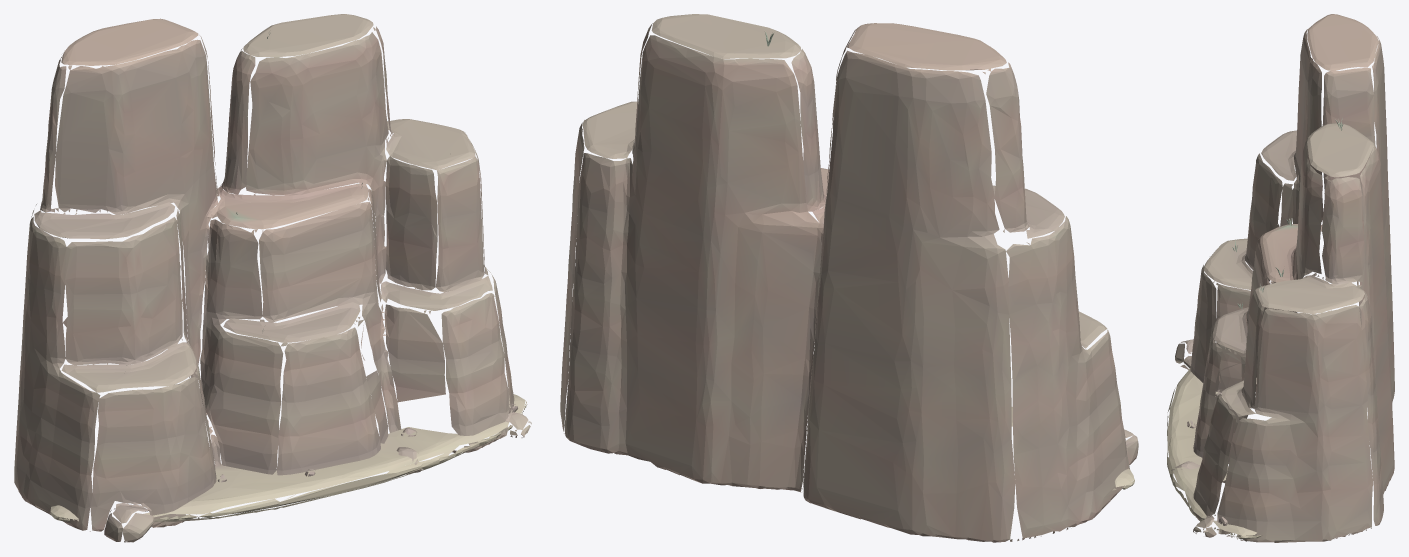
Rendered from CanyonWall.glb.
The picture shows the model from 3 angles, left to right: view 1: azimuth 30°, elevation 25°; view 2: azimuth 150°, elevation 25°; view 3: azimuth 270°, elevation 25°; orthographic projection. The views are drawn at different scales.
Parts seen in each view (by area): view 1: geometry_0; view 2: geometry_0; view 3: geometry_0.
Part boxes in pixels (<box>): geometry_0: <box>14,14,531,542</box>; geometry_0: <box>560,14,1138,542</box>; geometry_0: <box>1167,14,1394,542</box>.
Bounding box in the file's own units: 8.33 × 6.92 × 3.98.
